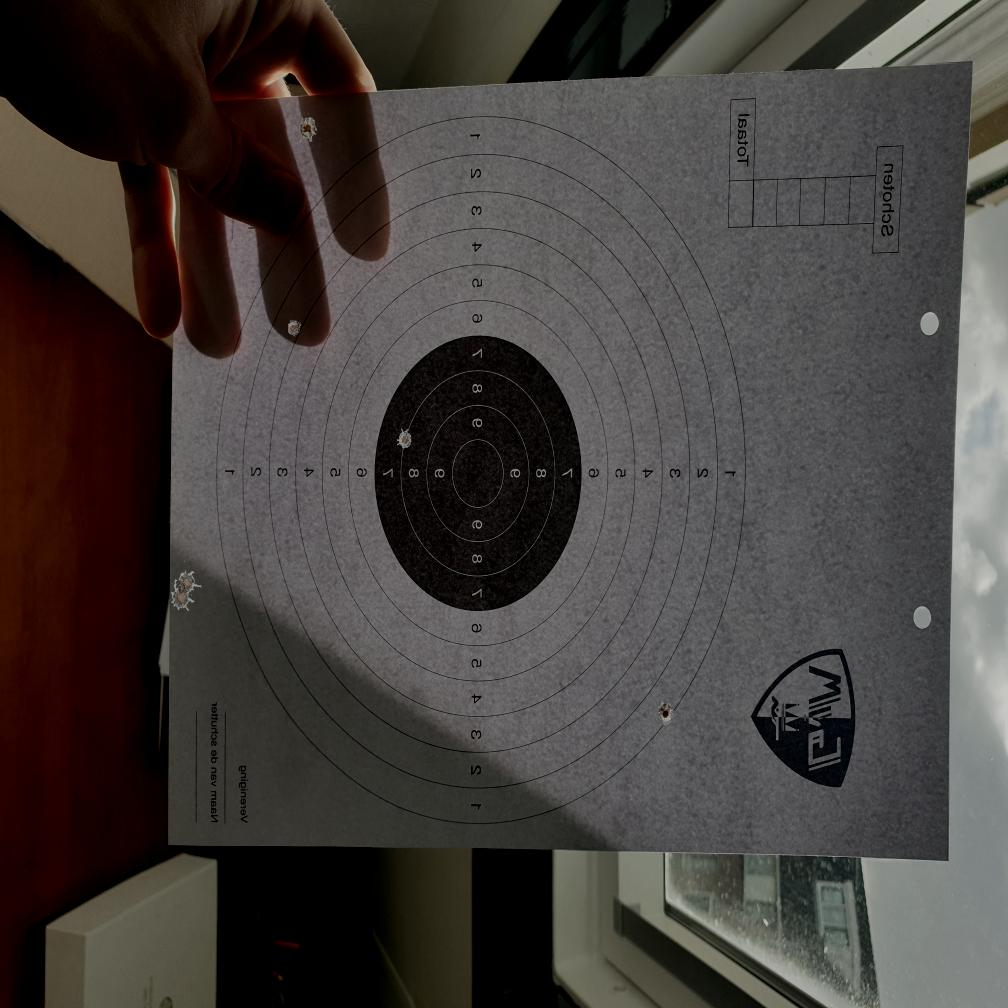0: (298, 115, 319, 142), (177, 569, 198, 593), (172, 588, 190, 612)
1: (657, 700, 676, 727)
2: (287, 316, 301, 338)
8: (397, 429, 412, 449)
Target: (211, 107, 747, 831)
black_contour: (374, 335, 581, 611)
